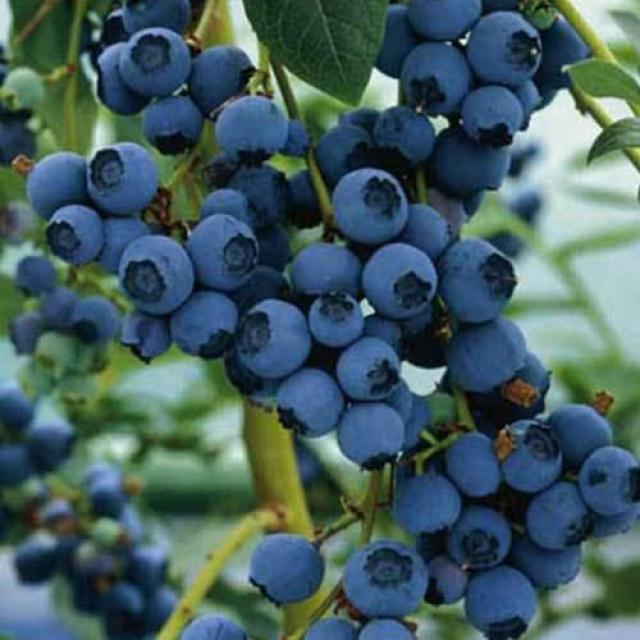BlueBerry - v1: (429, 228, 526, 328), (232, 290, 320, 386), (436, 311, 534, 397), (180, 37, 268, 128), (242, 525, 334, 612), (340, 535, 428, 625), (112, 230, 200, 318), (324, 165, 416, 248), (430, 118, 518, 204), (464, 5, 550, 88), (360, 238, 443, 323), (270, 360, 352, 446), (208, 82, 290, 168), (165, 280, 247, 365), (392, 38, 474, 123), (114, 23, 197, 106), (456, 559, 540, 640), (83, 134, 165, 215), (187, 207, 264, 292), (387, 463, 467, 539), (21, 146, 98, 224), (434, 499, 517, 571), (542, 396, 618, 474), (89, 36, 158, 121), (498, 413, 566, 498), (524, 478, 598, 554), (364, 97, 442, 169), (578, 436, 640, 522), (456, 80, 528, 154), (332, 337, 407, 407), (338, 397, 408, 472), (439, 426, 507, 502), (193, 179, 269, 245), (290, 237, 368, 301), (367, 4, 430, 83), (507, 530, 585, 593), (302, 119, 375, 186), (112, 306, 180, 374), (37, 200, 108, 265), (404, 0, 493, 51), (138, 92, 210, 154), (233, 165, 298, 231), (68, 287, 124, 361), (308, 288, 368, 353), (399, 200, 458, 265), (98, 210, 158, 271), (502, 346, 557, 408), (118, 0, 193, 42), (168, 606, 257, 640), (424, 558, 475, 616), (255, 222, 301, 276), (297, 613, 365, 640), (349, 615, 421, 640)
